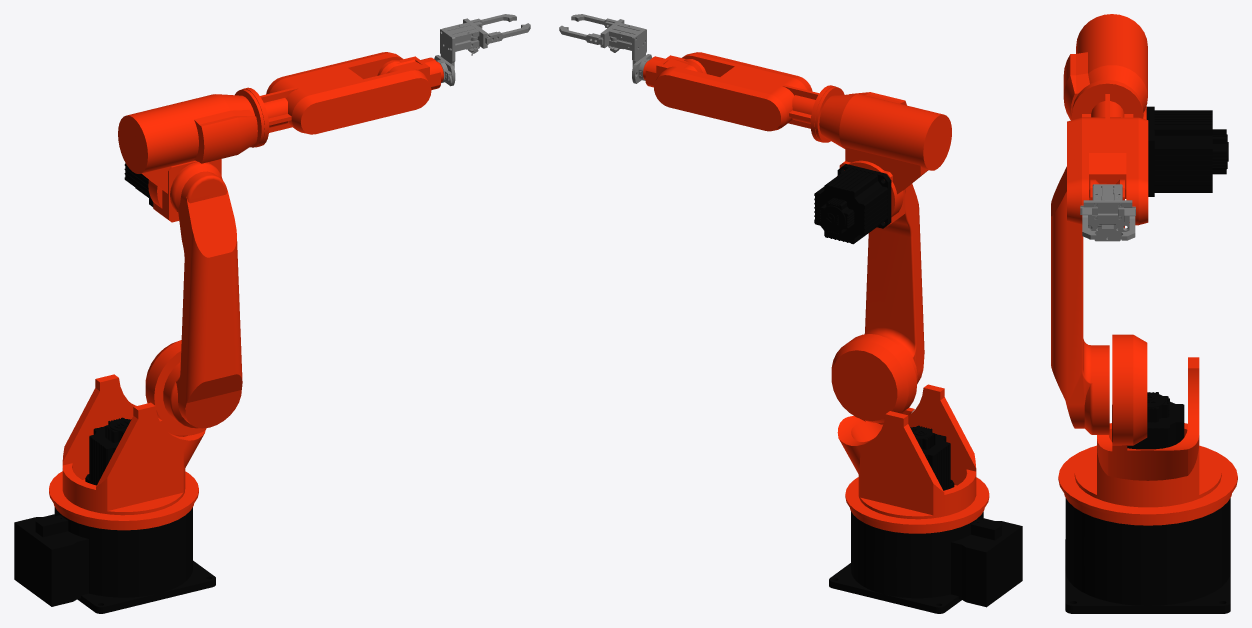
The picture shows the model from 3 angles, left to right: view 1: azimuth 30°, elevation 25°; view 2: azimuth 150°, elevation 25°; view 3: azimuth 270°, elevation 25°; orthographic projection. The views are drawn at different scales.
Visible parts, largest first — view 1: RB08-1-gj2, RB08-1-gj1, RB08-dp, RB08-1-gj4, RB08-1-gj3x, RB08-1-gj5; view 2: RB08-1-gj1, RB08-dp, RB08-1-gj4, RB08-1-gj3x, RB08-1-gj2, RB08-1-gj3, RB08-1-gj5; view 3: RB08-1-gj1, RB08-dp, RB08-1-gj2, RB08-1-gj4, RB08-1-gj3, RB08-1-gj3x, stitch_result_stitch all (×4).
Boxes of the visible parts, x1,y1,x2,y2 form: RB08-1-gj2: (85,162,242,485); RB08-1-gj1: (49,340,206,530); RB08-dp: (14,507,215,613); RB08-1-gj4: (235,52,431,147); RB08-1-gj3x: (118,94,257,222); RB08-1-gj5: (377,56,443,89); RB08-1-gj1: (831,334,989,533); RB08-dp: (829,511,1022,613); RB08-1-gj4: (654,52,844,142); RB08-1-gj3x: (819,92,951,226); RB08-1-gj2: (864,183,954,490); RB08-1-gj3: (814,164,891,244); RB08-1-gj5: (643,55,706,87); RB08-1-gj1: (1058,334,1237,525); RB08-dp: (1065,498,1230,613); RB08-1-gj2: (1051,166,1184,449); RB08-1-gj4: (1067,80,1148,225); RB08-1-gj3: (1146,106,1228,196); RB08-1-gj3x: (1063,14,1147,198); stitch_result_stitch all (×4): (1084,184,1135,241).
Bounding box in the file's own units: 63.78 × 61.71 × 18.23.
